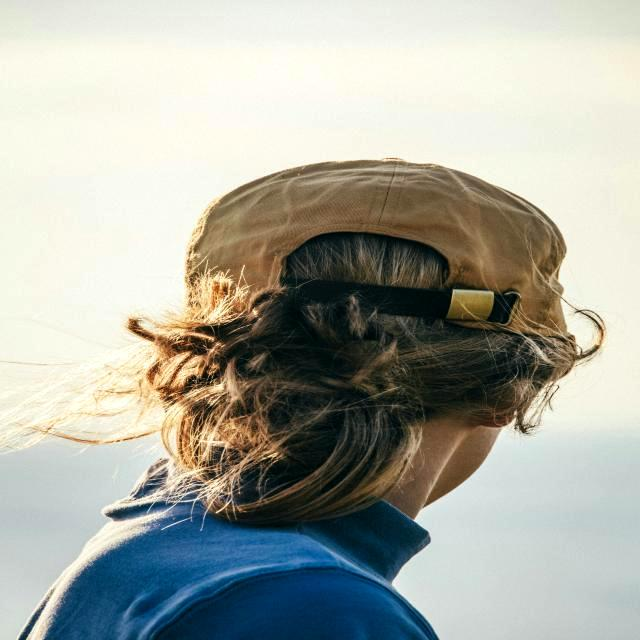no_hard_hat: (185, 159, 569, 336)
person: (18, 159, 590, 640)
